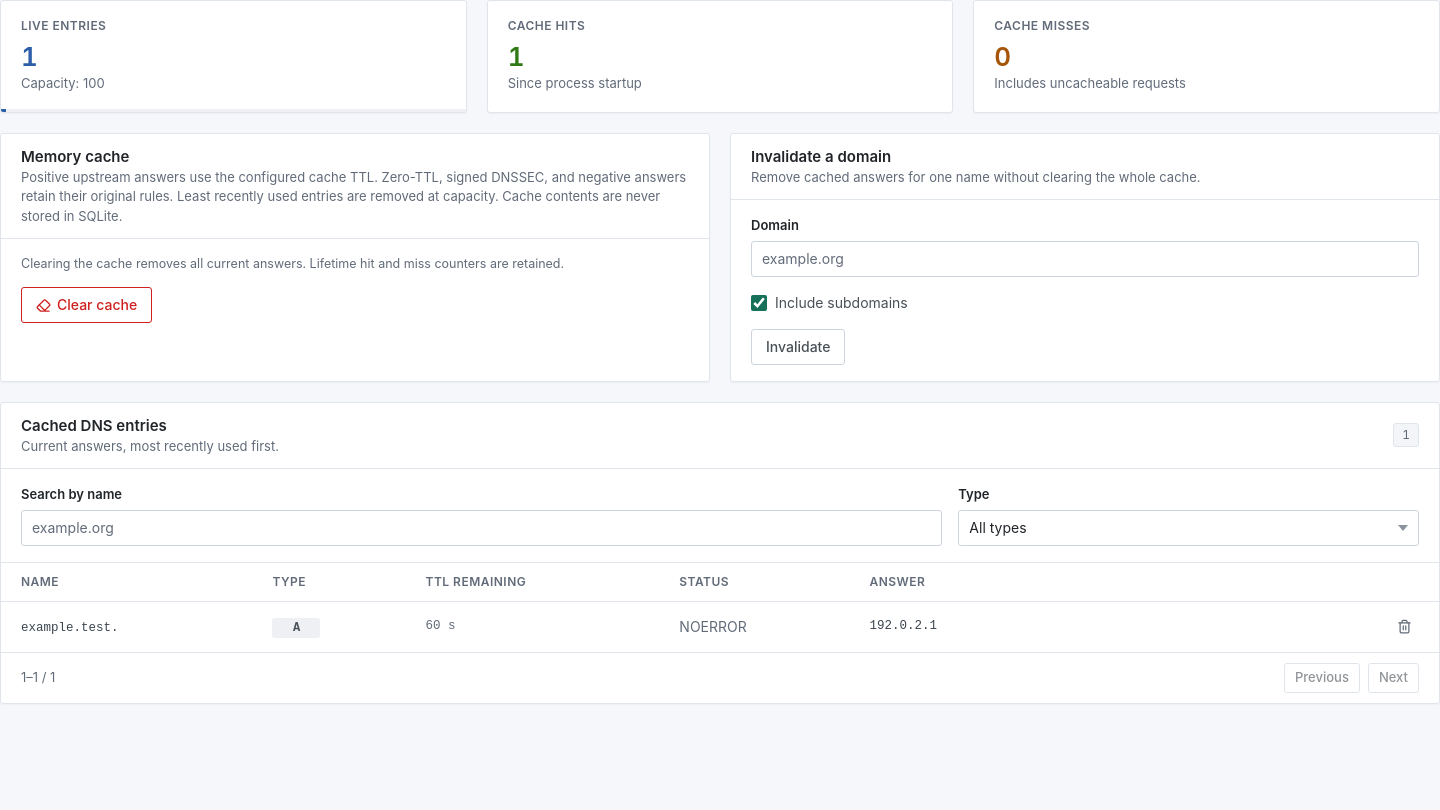
Scenario: removes a single cached entry
This screenshot has width=1440, height=810.
Click the button named "Remove from cache: example.test. A" at (1404, 627), box left=1389, top=612, right=1419, bottom=642
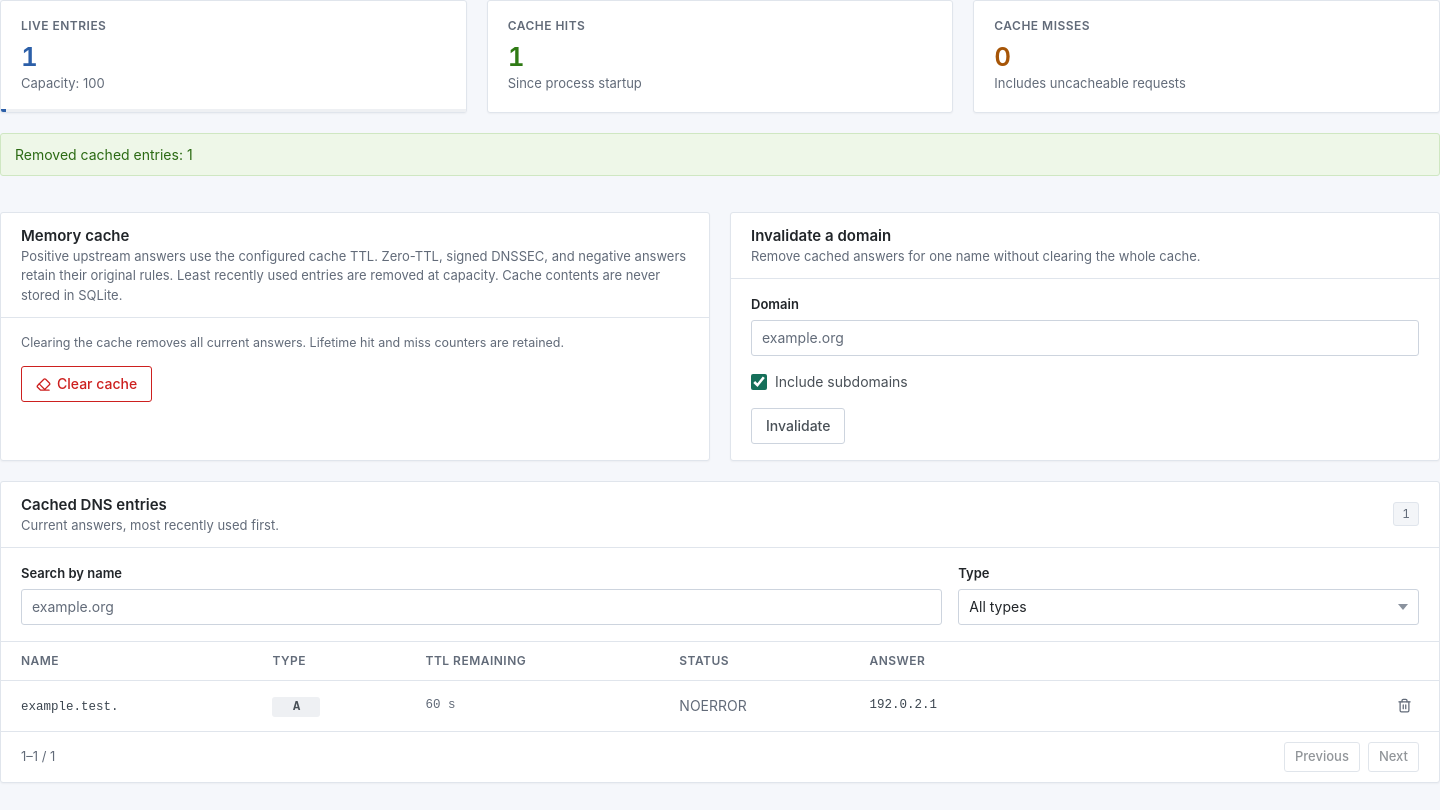
Now the text "Removed cached entries: 1" is shown, box left=0, top=133, right=1439, bottom=176
